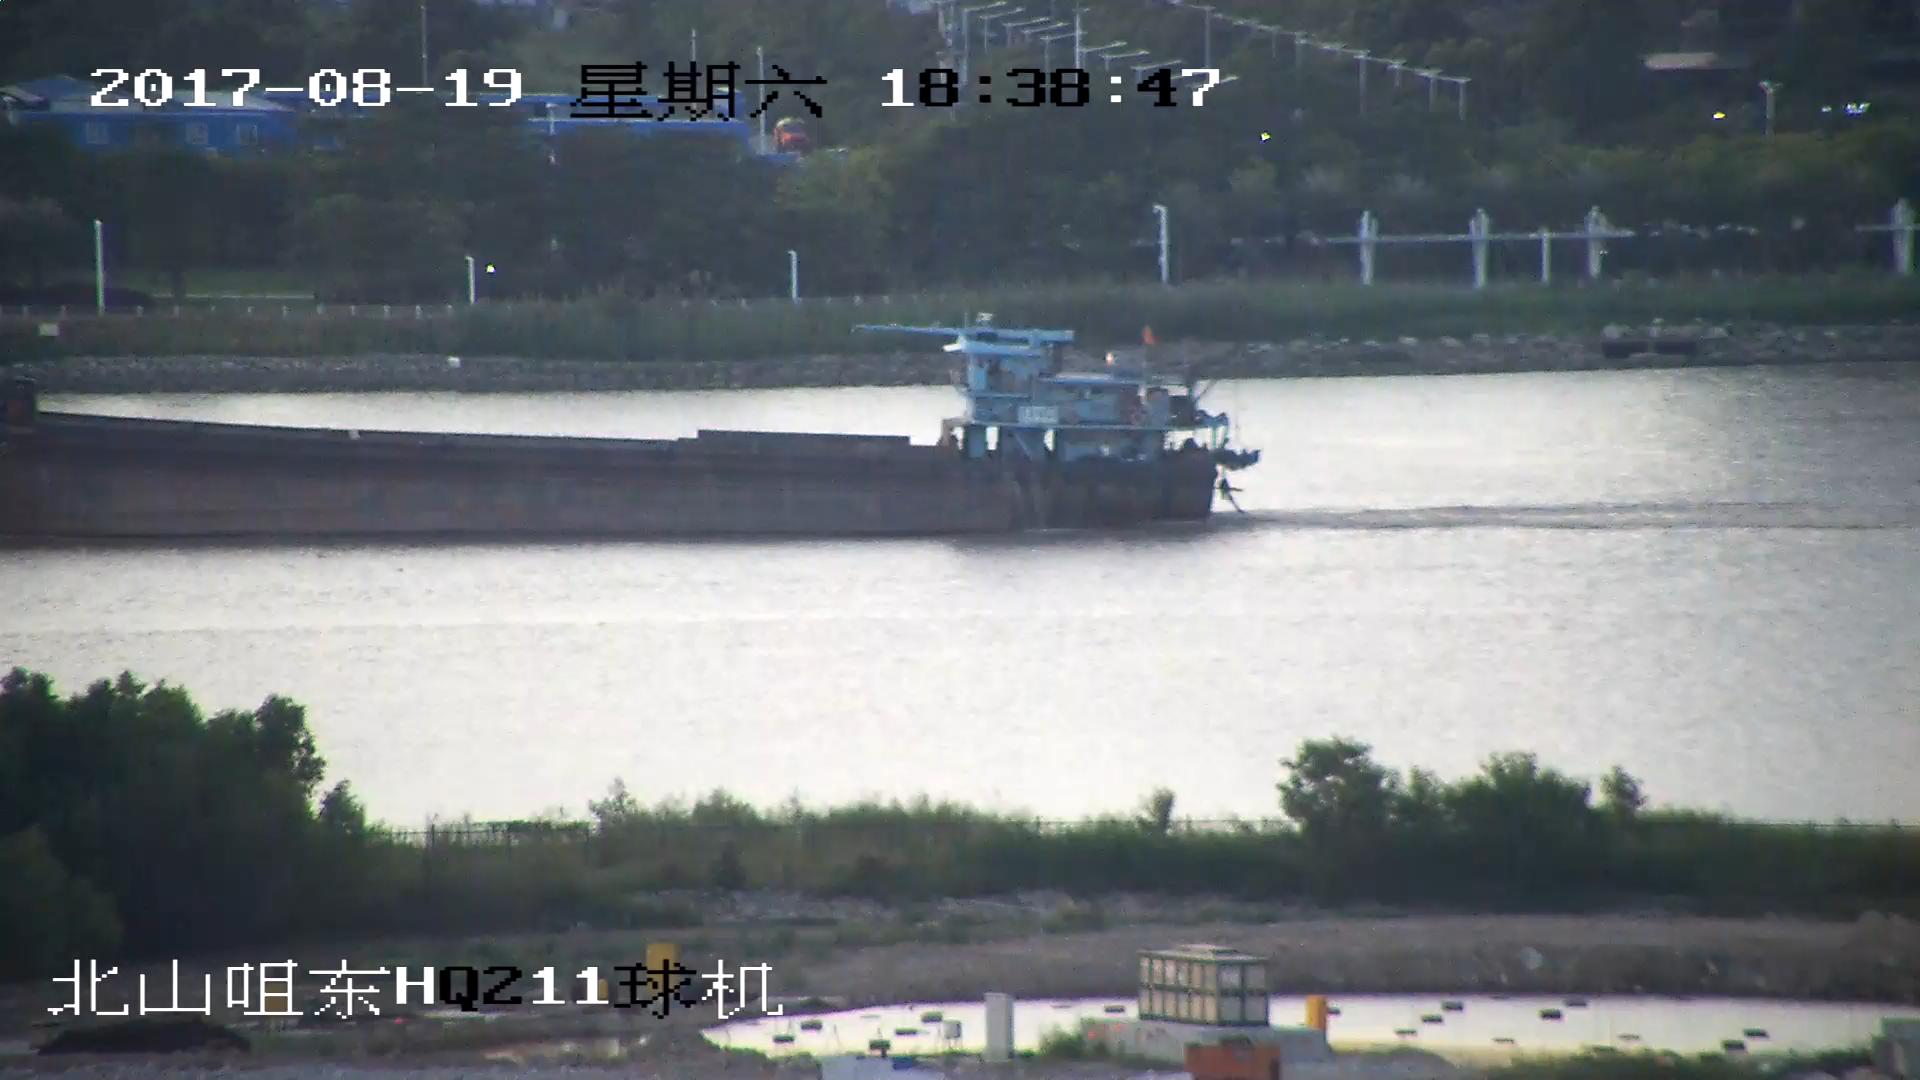bulk cargo carrier: (1, 313, 1239, 533)
